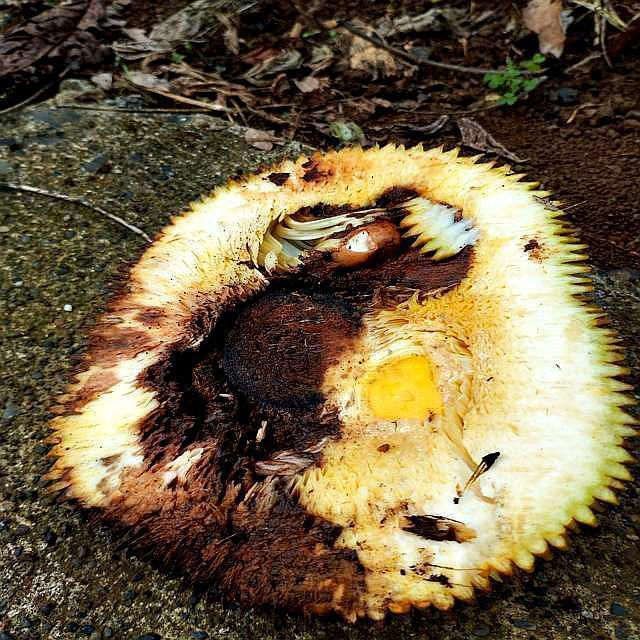Biodegradable: (82, 150, 616, 617)
